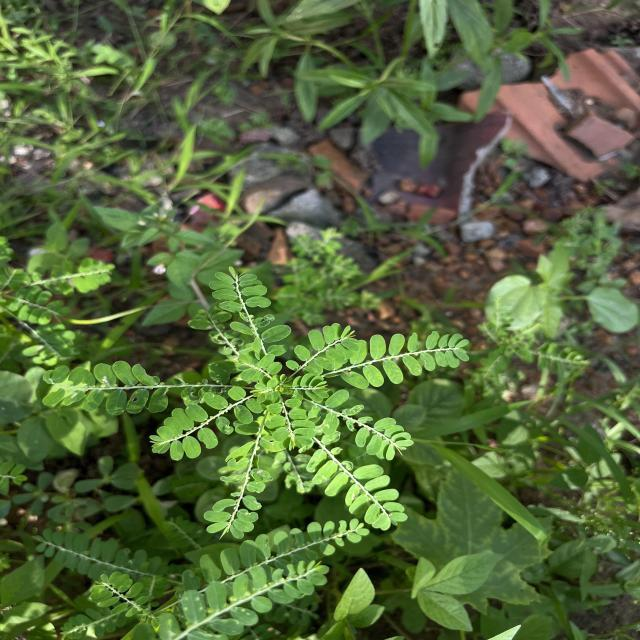Phyllanthus niruri: (175, 518, 372, 577), (306, 444, 412, 532), (146, 384, 260, 461), (336, 330, 471, 390), (36, 360, 170, 418), (208, 266, 292, 344), (284, 322, 359, 374), (266, 396, 318, 451)
